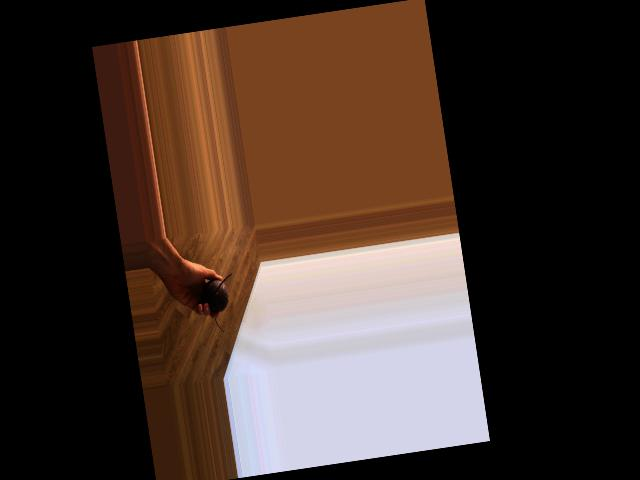beet: (199, 274, 239, 334)
